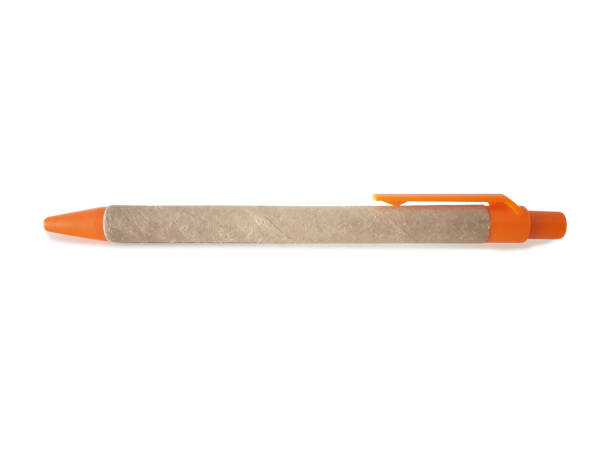pen: (34, 183, 593, 262)
